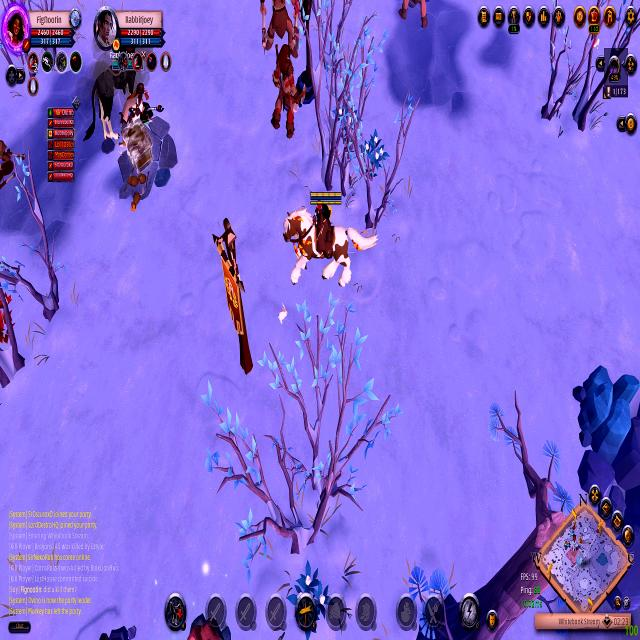hide: (277, 545, 339, 640), (358, 126, 392, 190), (329, 90, 363, 153)
ore: (262, 40, 312, 147), (256, 0, 310, 70), (392, 0, 435, 45)
red: (277, 183, 382, 303), (103, 44, 175, 140)
tree: (567, 359, 640, 453), (189, 611, 230, 640)
